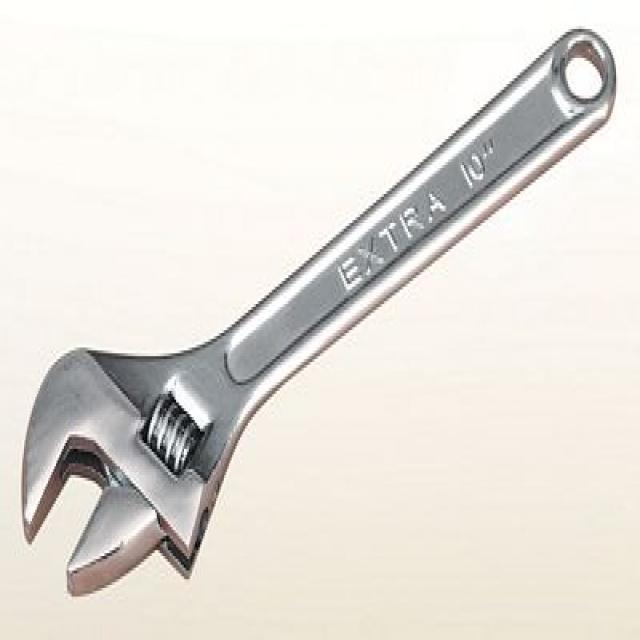wrench: (15, 21, 622, 606)
